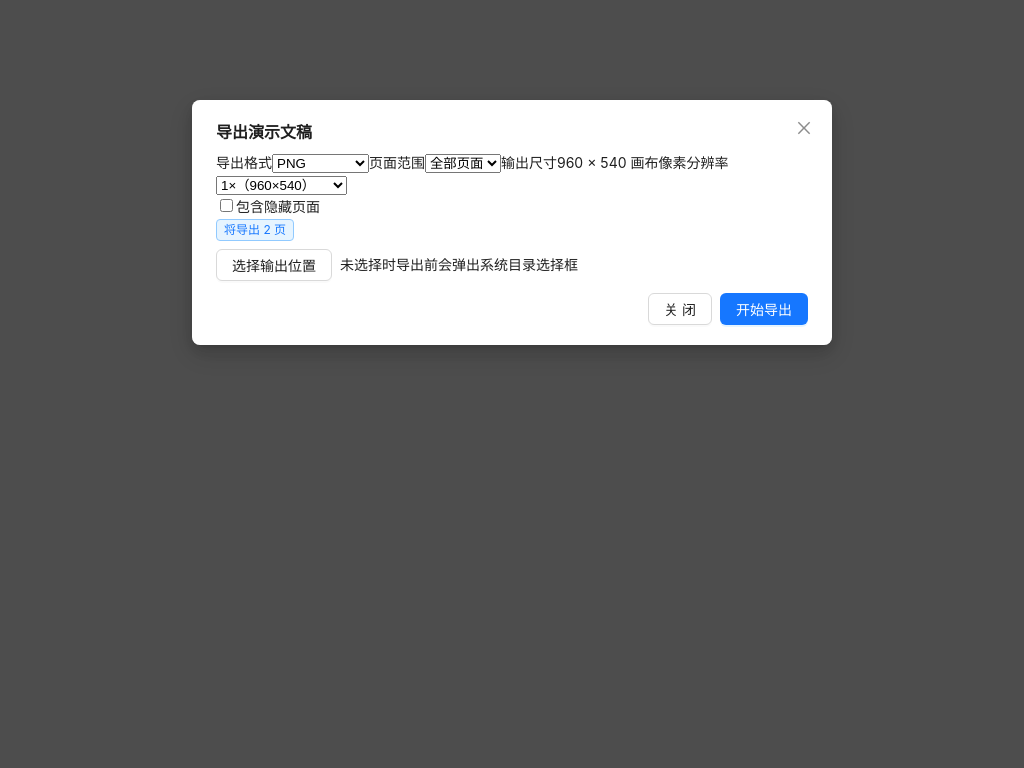
Test: 缺少图片资源时给出真实原因而不提交主进程
Click the button "开始导出": (764, 309) [720,293,808,325]
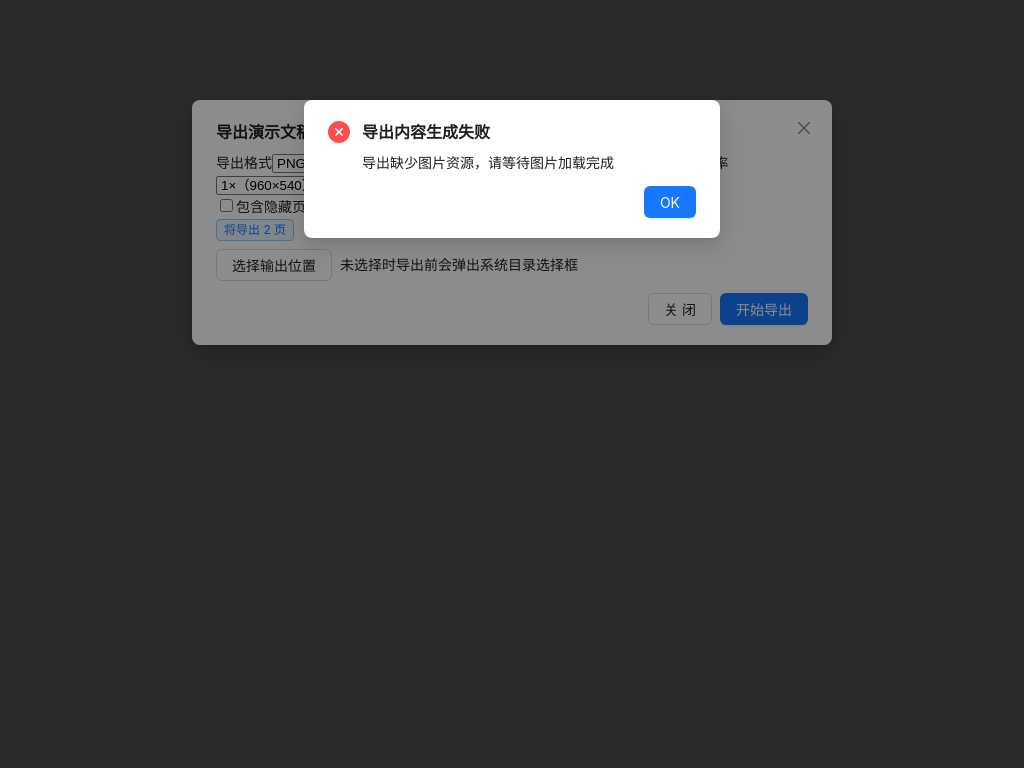
Expected: the text "导出缺少图片资源，请等待图片加载完成" is shown, [362,154,614,171]
